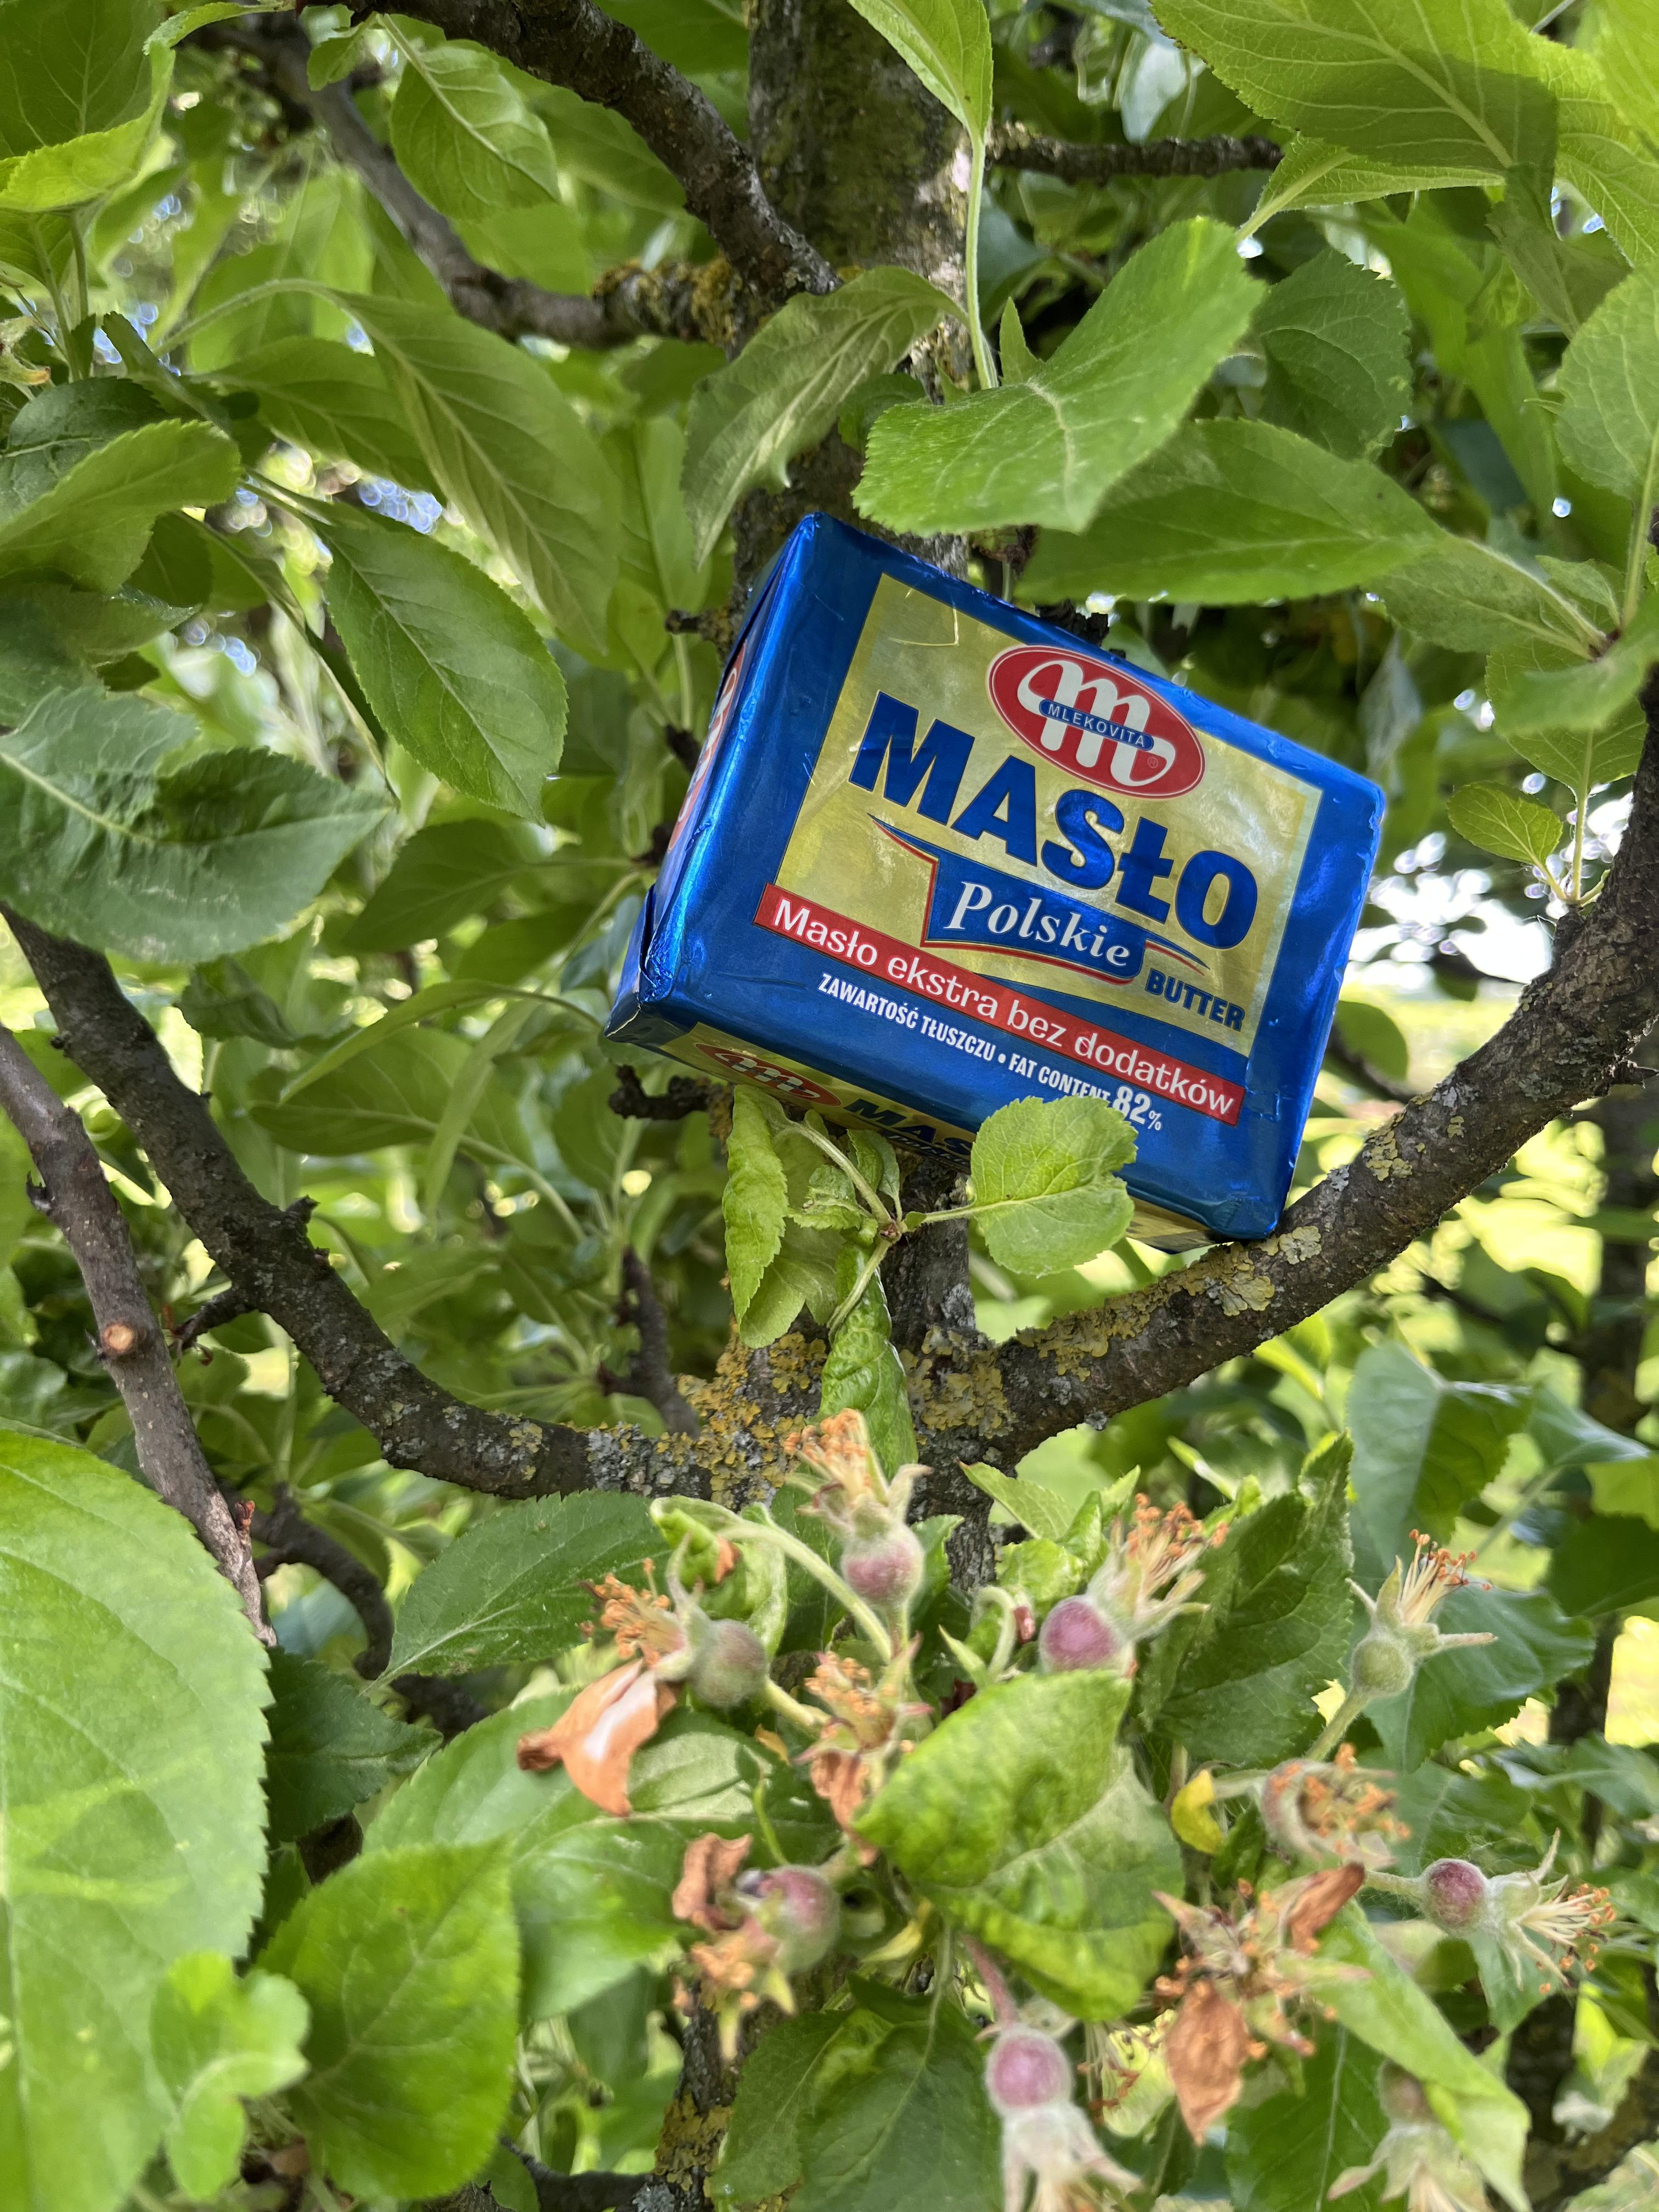Butter: (612, 516, 1375, 1240)
